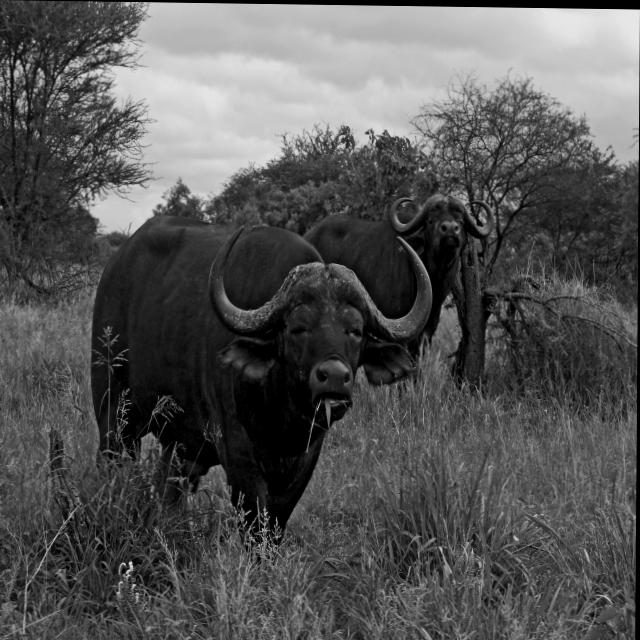Buffalo: (92, 215, 436, 572), (294, 189, 498, 375)
